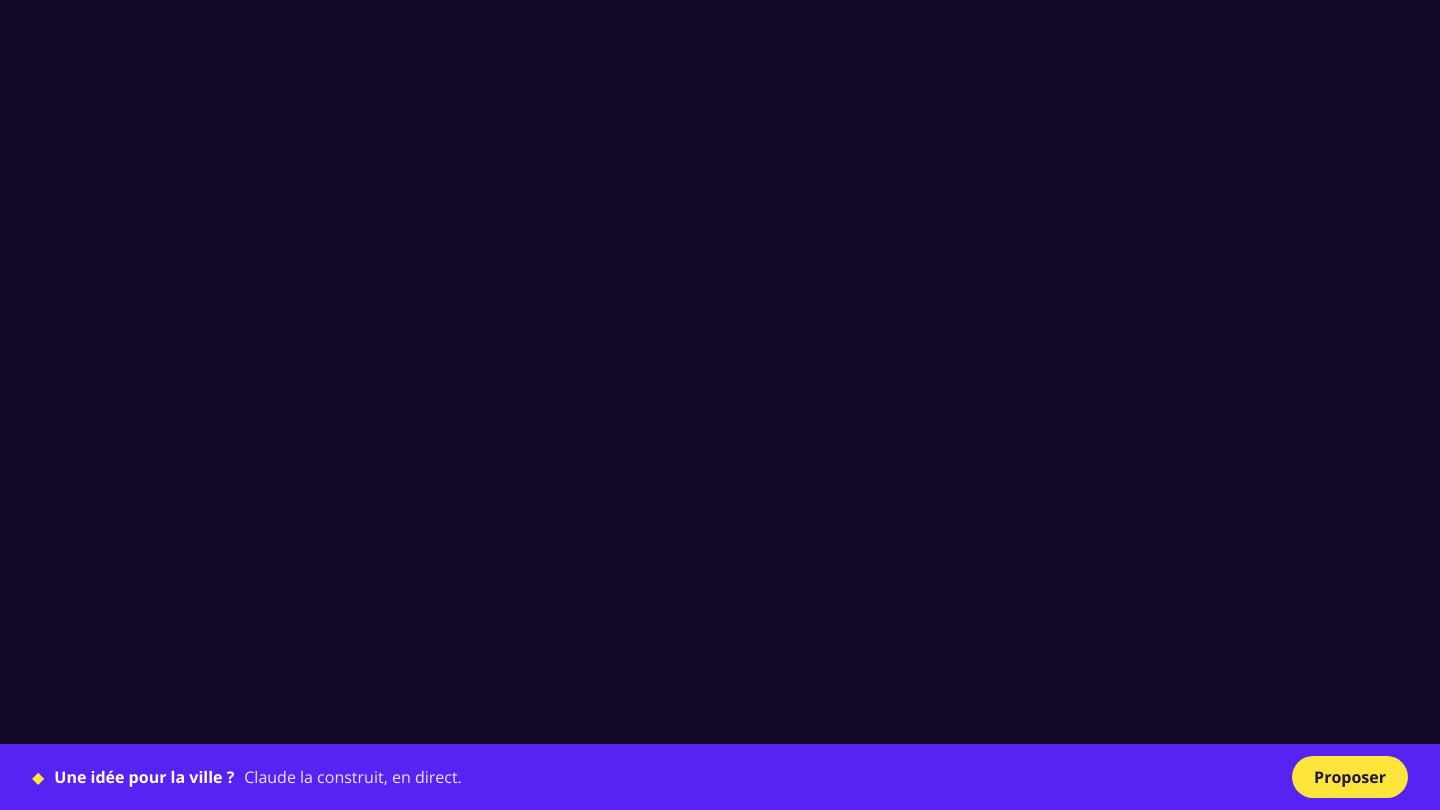
Test: IdeaBanner › erreur générique si la réponse est illisible
Click the button "Proposer" at (1350, 777), box top-left (1292, 756), bottom-right (1408, 798)
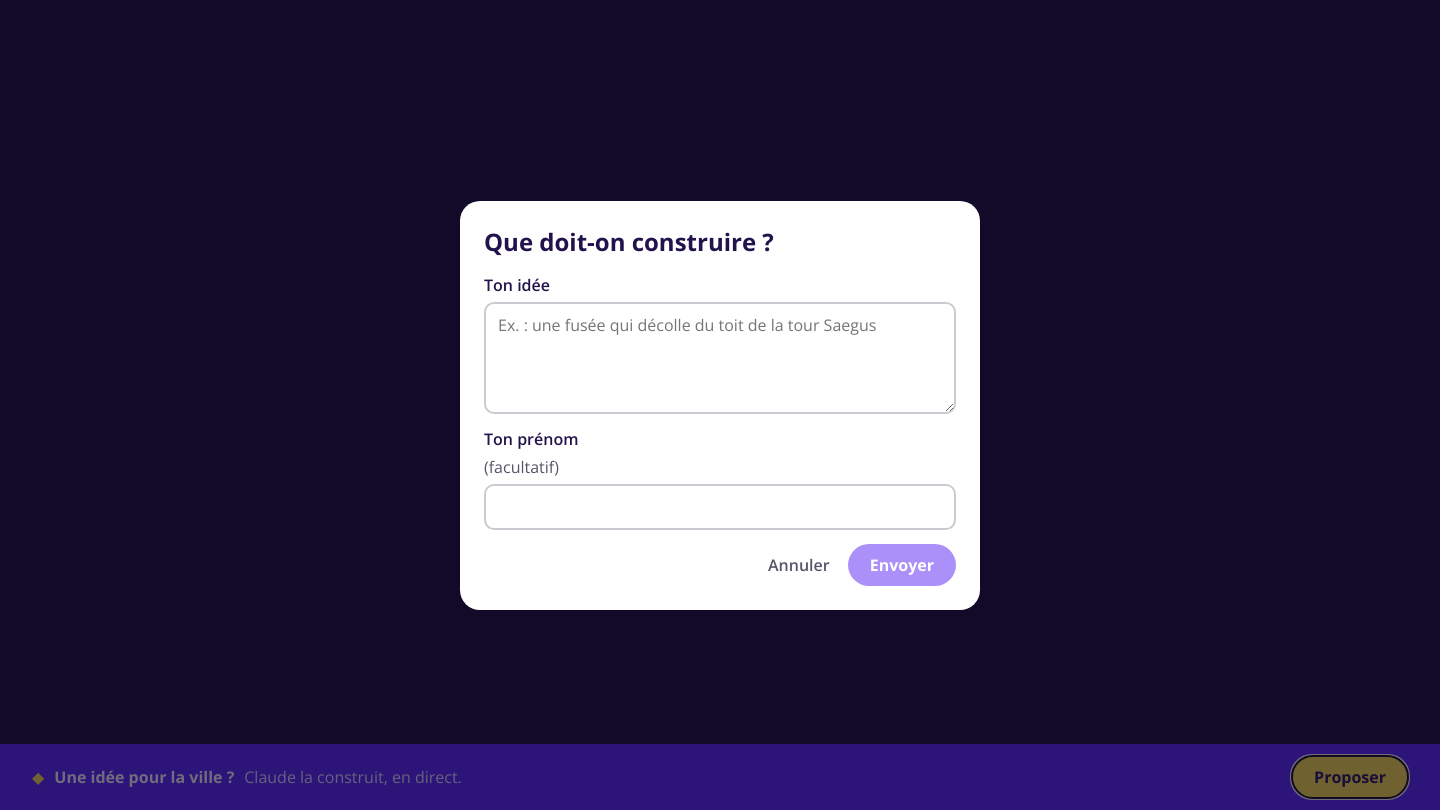
Type "Une fusée qui décolle de la tour" into the text box labelled "Ton idée" at (720, 358), box top-left (484, 302), bottom-right (956, 414)
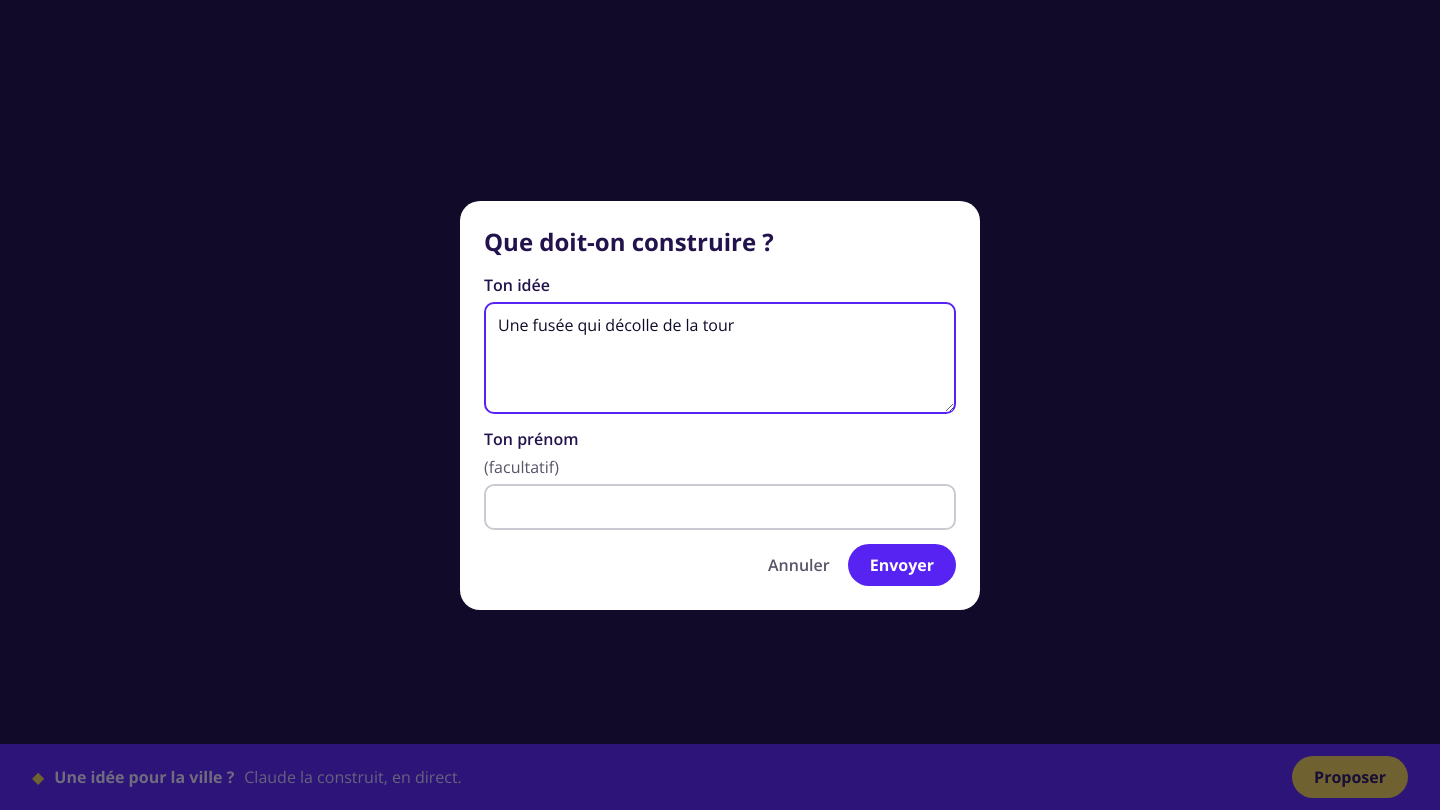
Click the button "Envoyer" at (902, 564), box top-left (848, 544), bottom-right (956, 586)
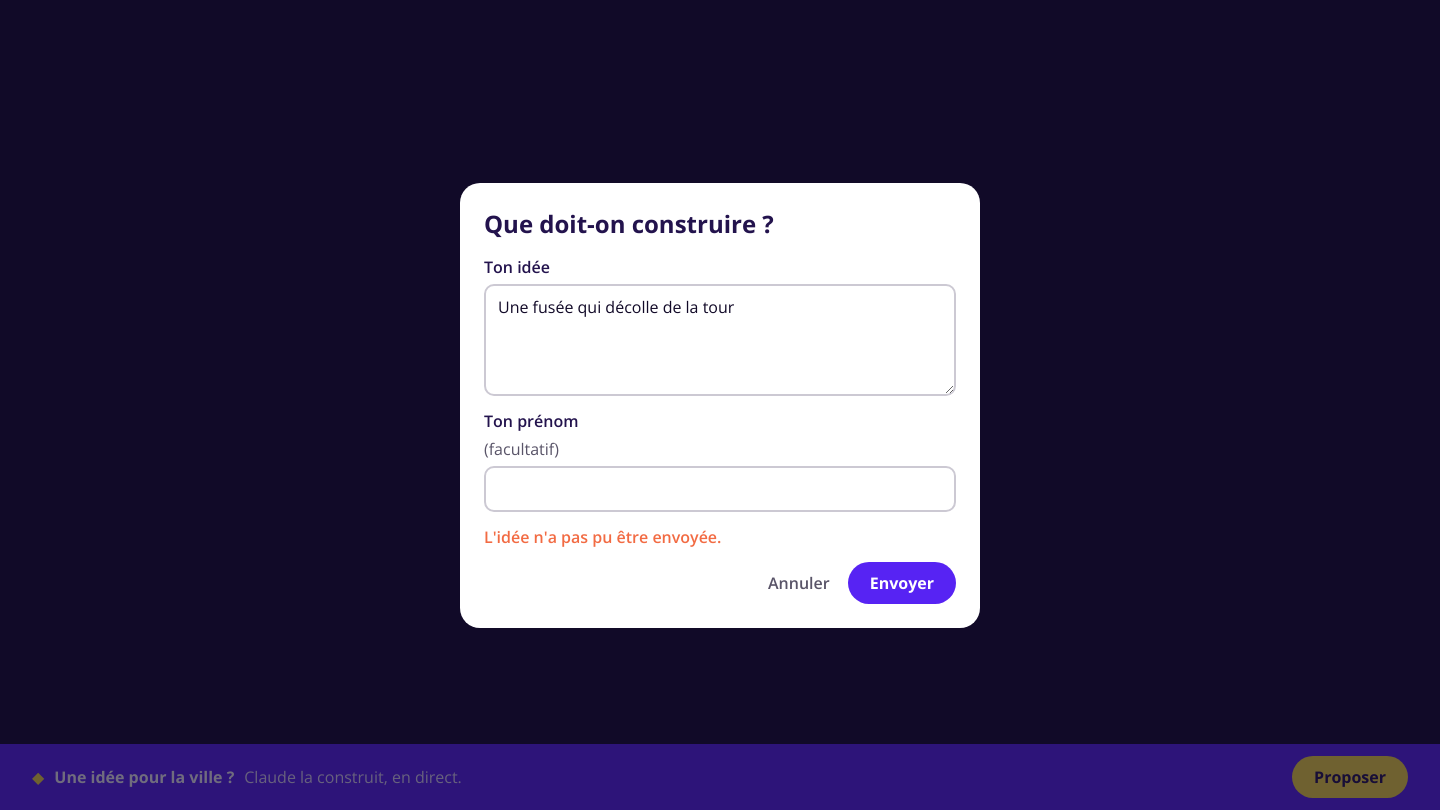
Check: the message reads "L'idée n'a pas pu être envoyée.", box top-left (484, 526), bottom-right (722, 548)
